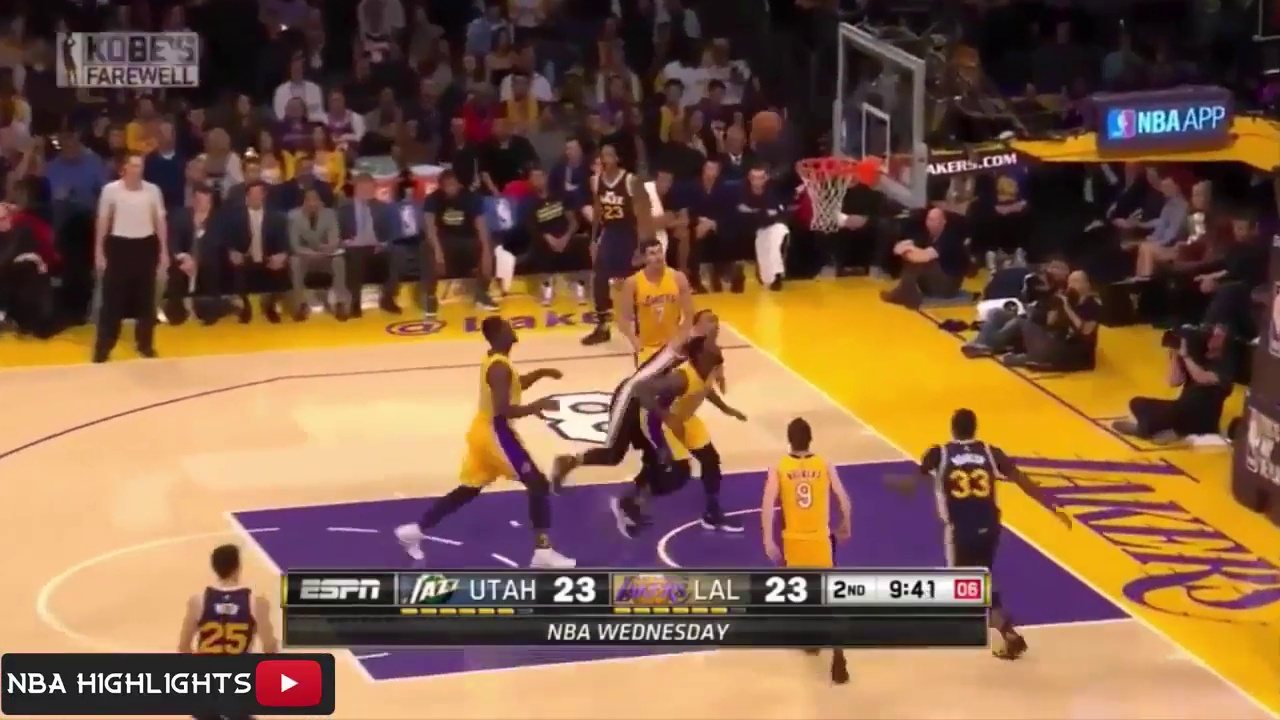jazz: (925, 404, 1047, 661), (578, 313, 721, 525), (181, 543, 288, 709), (590, 142, 654, 336)
lakers: (403, 315, 576, 563), (652, 318, 733, 542), (755, 418, 849, 571), (624, 243, 690, 357)
